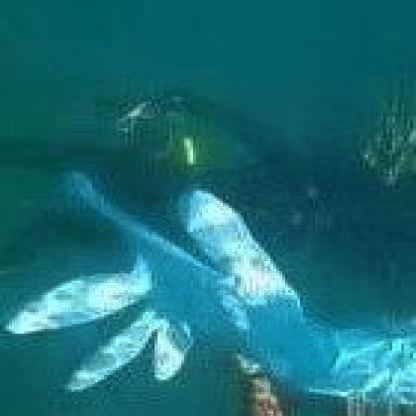glove: (0, 169, 413, 411)
